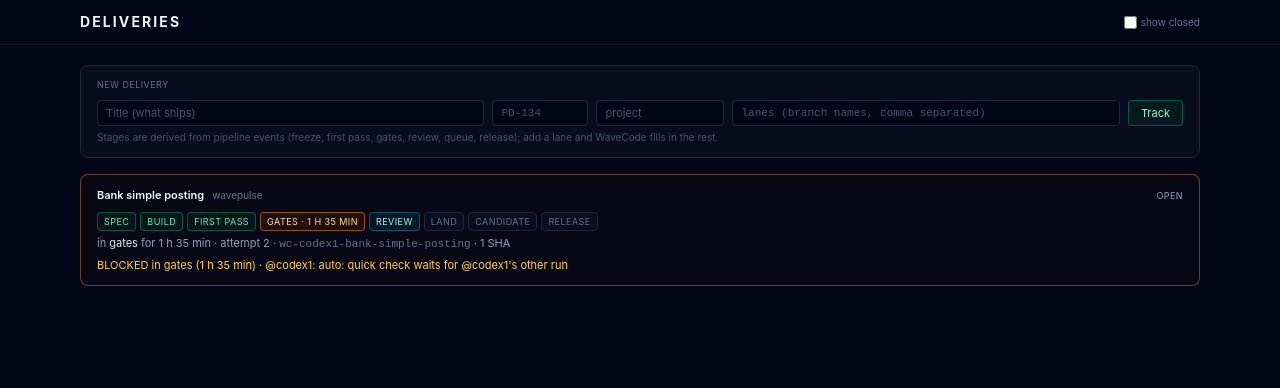
Test: Deliveries › opens the stage table on click and fetches the detail
Click the text "Bank simple posting" at (151, 195), box [97, 187, 204, 204]
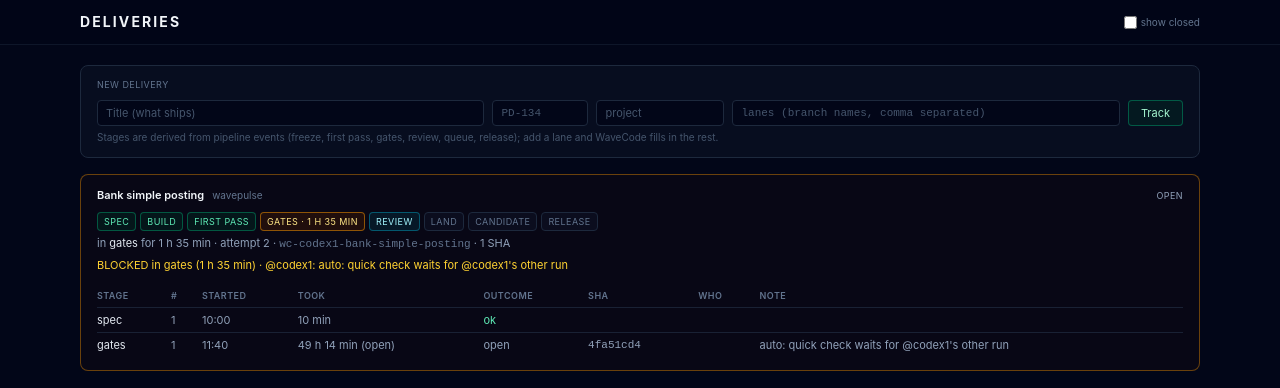
Expected: the row "spec 1 10:00 10 min ok" is shown, [97, 307, 1183, 332]
Expected: the row that starts with "gates" shows "4fa51cd4", [588, 339, 641, 351]
Expected: the row that starts with "gates" shows "(open)", [358, 338, 395, 352]
